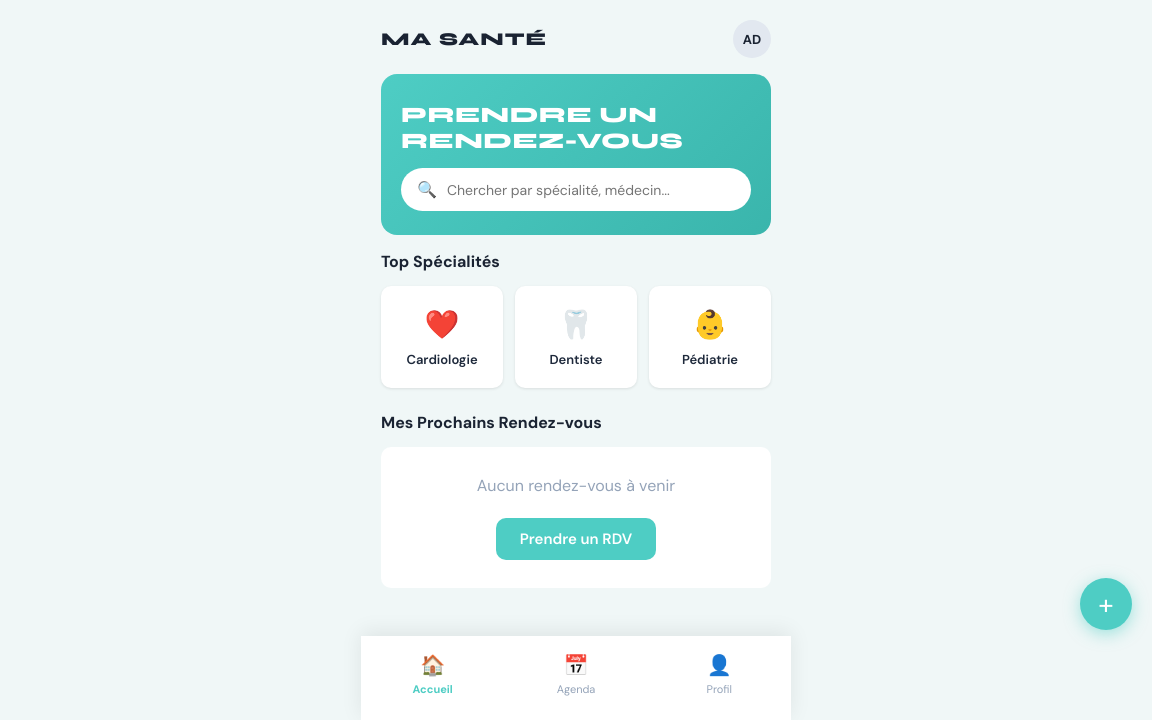
Test: appointment form modal opens when Prendre un RDV is clicked
The image size is (1152, 720).
Click the button "Prendre un RDV". click: coordinates (576, 539)
box: [496,518,656,560]
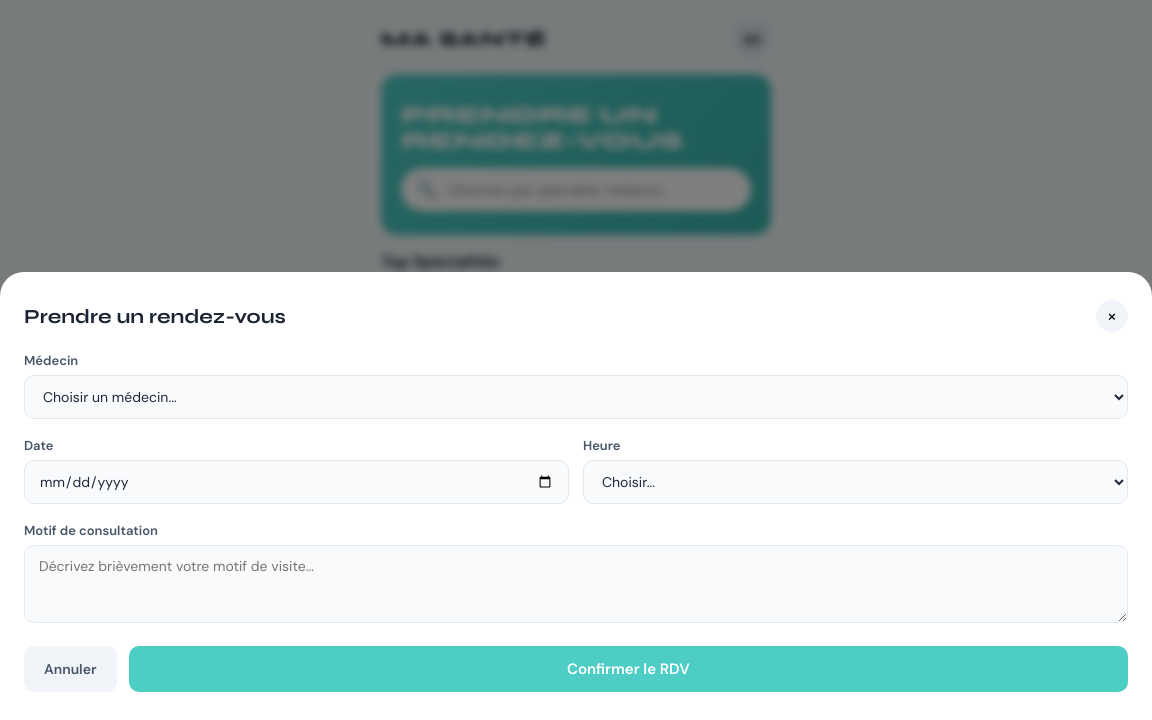
Check: the heading "Prendre un rendez-vous" is shown, box [24,304,286,328]
